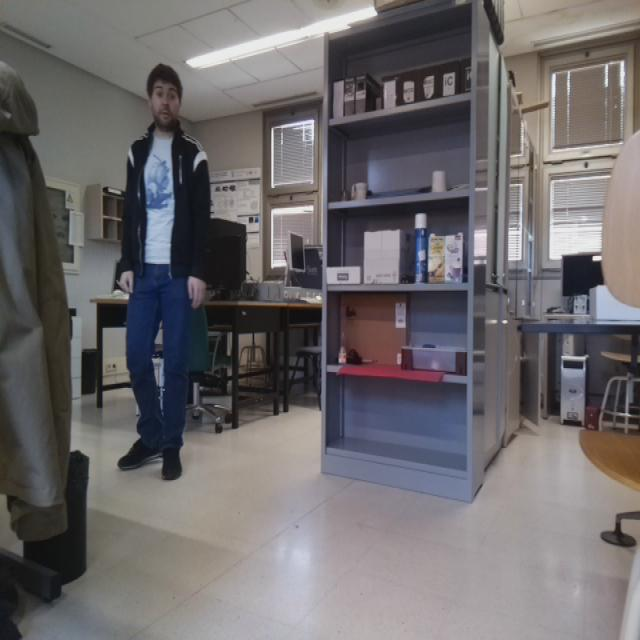person: (117, 59, 209, 480)
